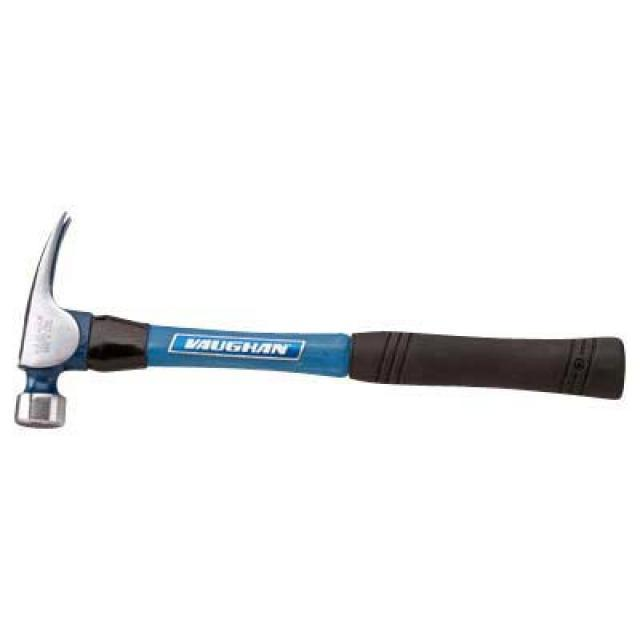hammer: (6, 205, 638, 436)
